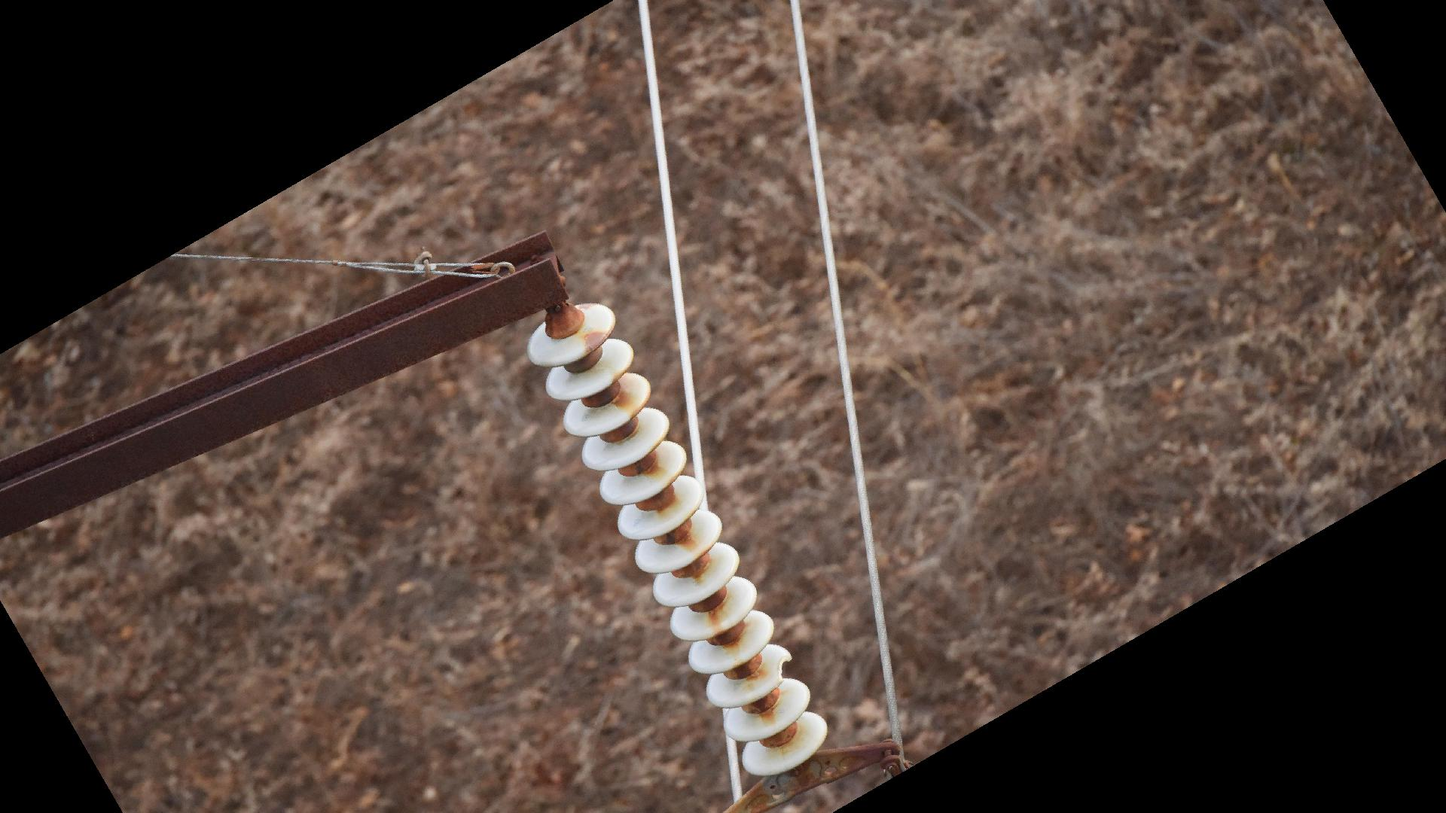insulator: (525, 298, 832, 783)
insulator_breakage: (773, 651, 798, 686)
